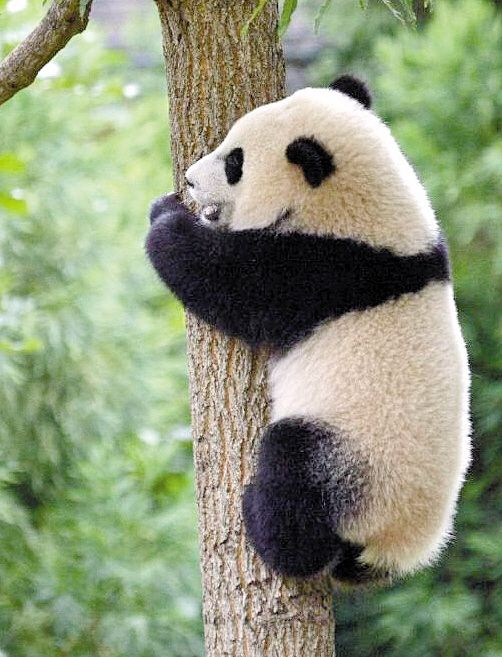panda: (146, 68, 494, 584)
